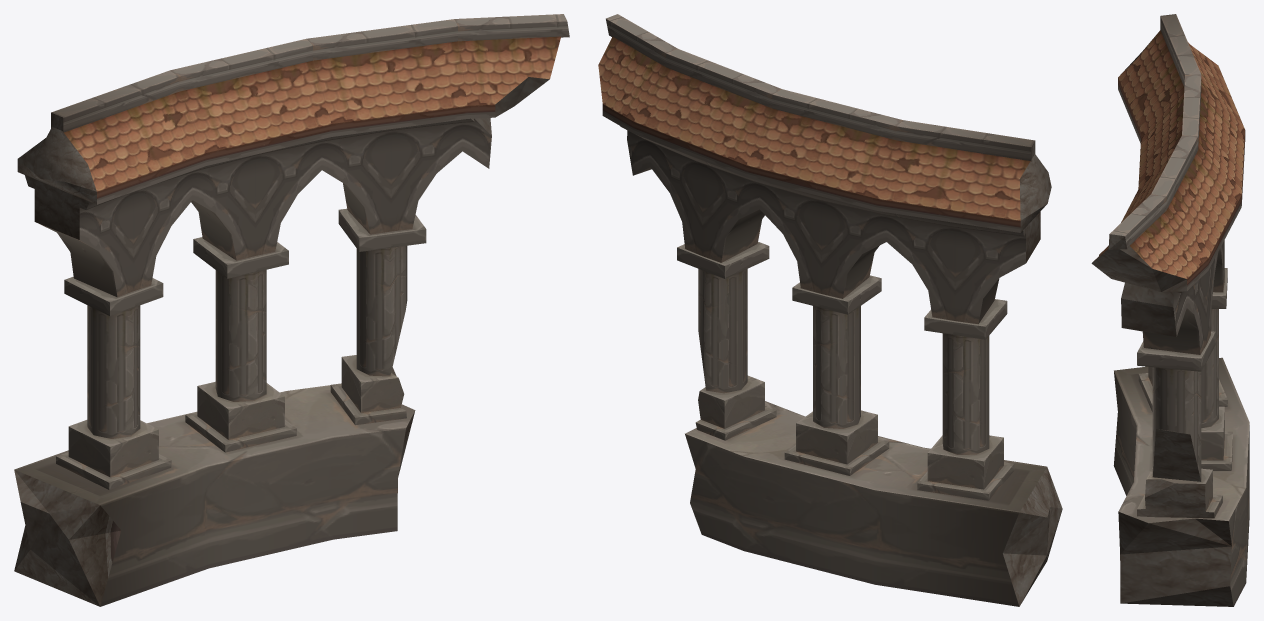
File: sc_dungeon_moshenta_building_004_c.FBX
The picture shows the model from 3 angles, left to right: view 1: azimuth 30°, elevation 25°; view 2: azimuth 150°, elevation 25°; view 3: azimuth 270°, elevation 25°; orthographic projection. The views are drawn at different scales.
Parts seen in each view (by area): view 1: sc_dungeon_moshenta_building_004_c; view 2: sc_dungeon_moshenta_building_004_c; view 3: sc_dungeon_moshenta_building_004_c.
Boxes of the visible parts, x1=… form: sc_dungeon_moshenta_building_004_c: x1=14, y1=14, x2=569, y2=606; sc_dungeon_moshenta_building_004_c: x1=598, y1=14, x2=1062, y2=606; sc_dungeon_moshenta_building_004_c: x1=1091, y1=14, x2=1249, y2=606.
Size of the model in its own units: 22.61 by 20.11 by 6.49.
